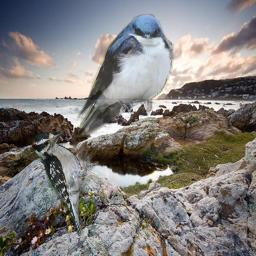Swallow: (74, 13, 174, 137)
Woodpecker: (32, 132, 99, 237)
